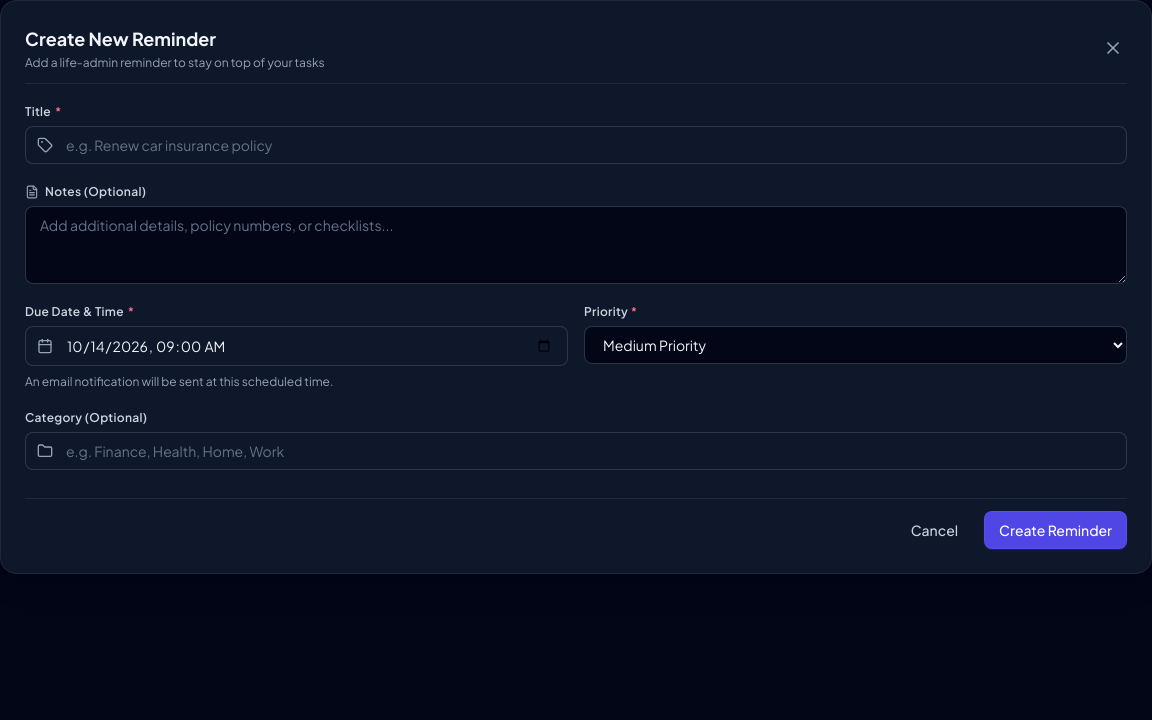
ReminderForm component › validates title requirement and shows error
Click the button "Create Reminder".
click(1056, 530)  # box left=984, top=511, right=1127, bottom=549
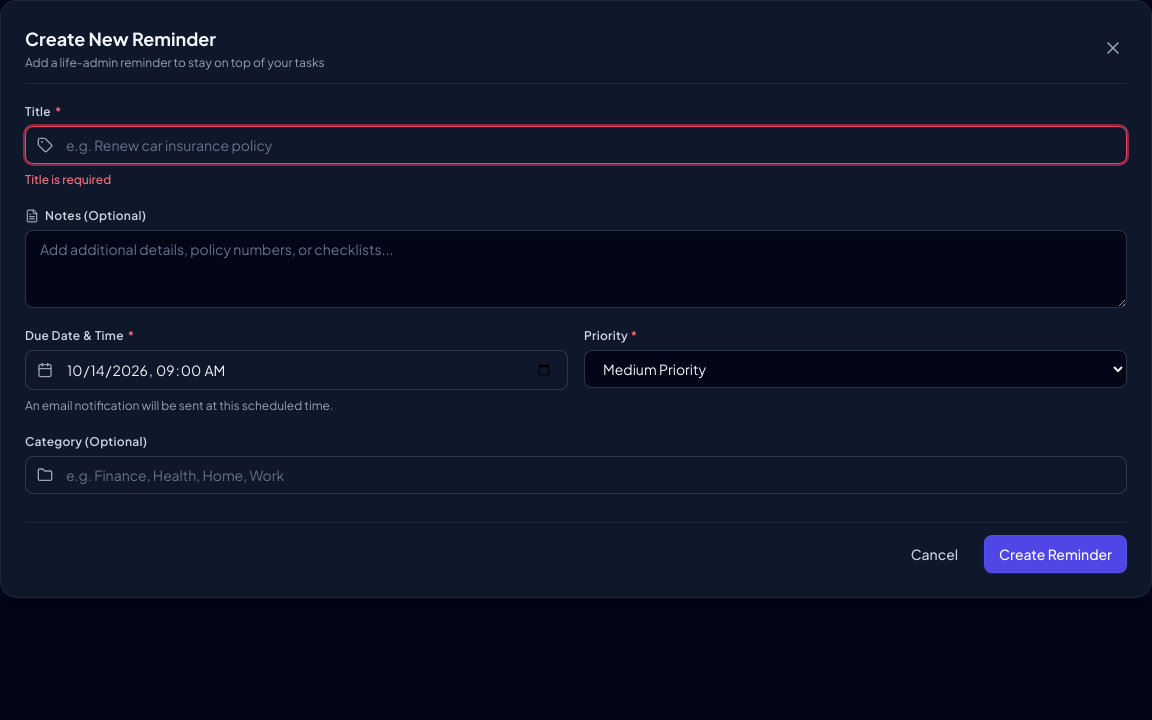
Now the text "Title is required" is shown, box left=25, top=172, right=111, bottom=187
